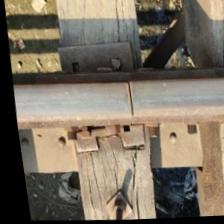person: (96, 72, 159, 130)
